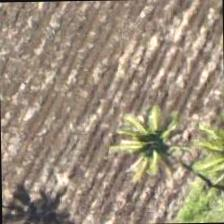Kelapa_Sawit: (81, 97, 173, 189)
